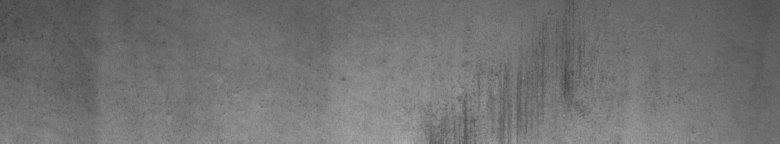ka: (426, 64, 584, 136)
